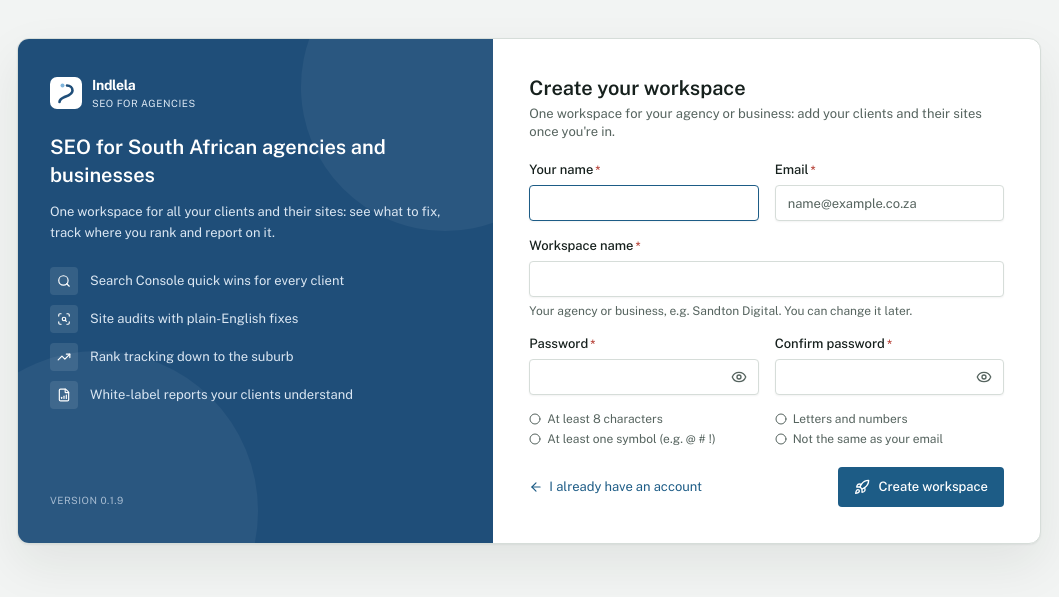
Scenario: RegisterPage (create your workspace) › checks the form before sending it
Type "Short1!" into the password field labelled "Password". click: (644, 377)
box: 529,359 -> 759,395
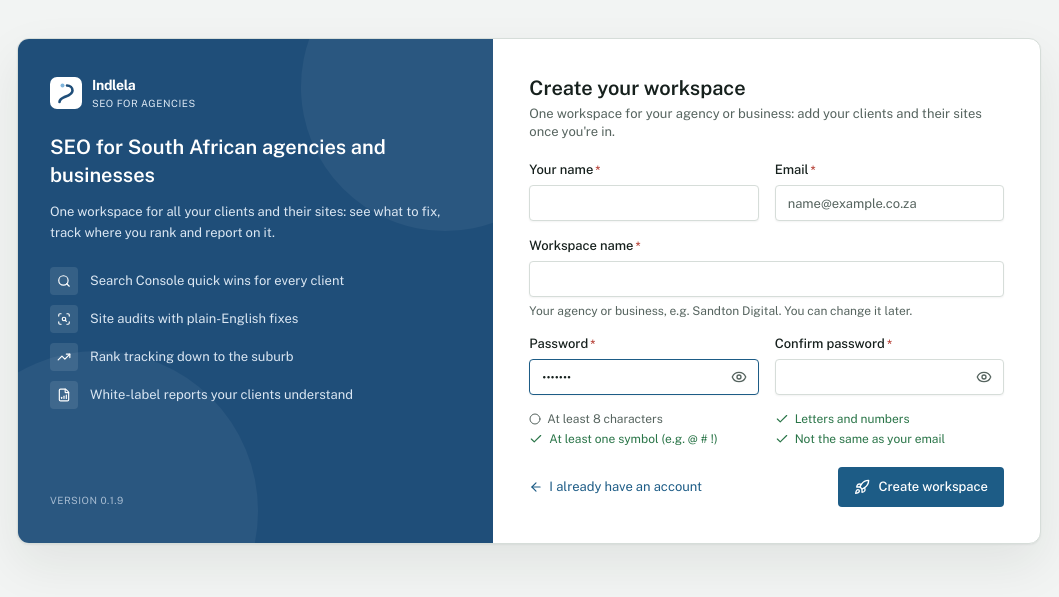
Type "Other1!" into the password field labelled "Confirm password". click: (889, 377)
box: 775,359 -> 1004,395
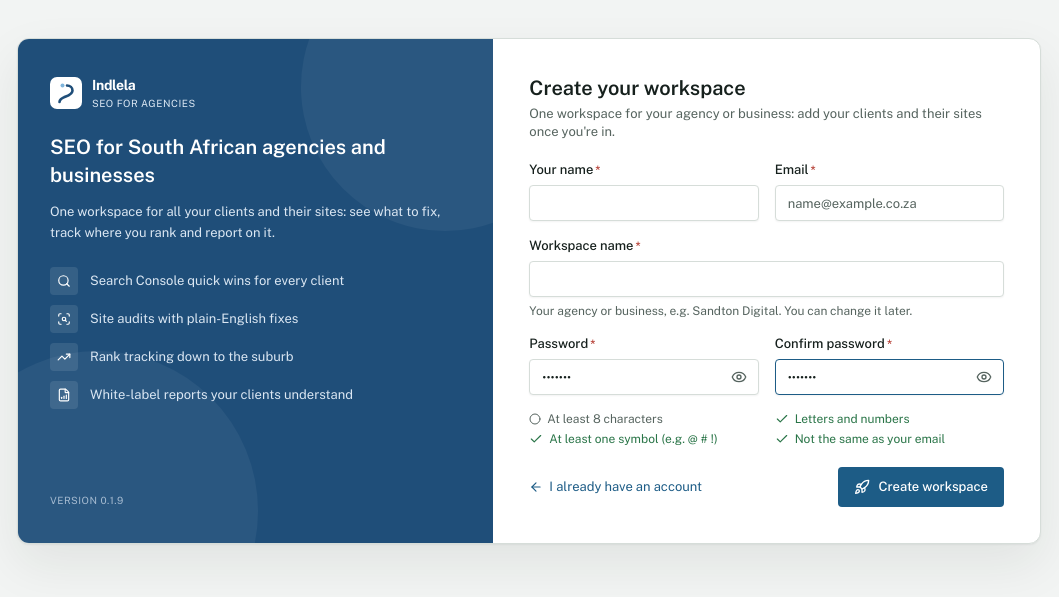
Click the button "Create workspace". click: (921, 487)
box: 838,467 -> 1004,507
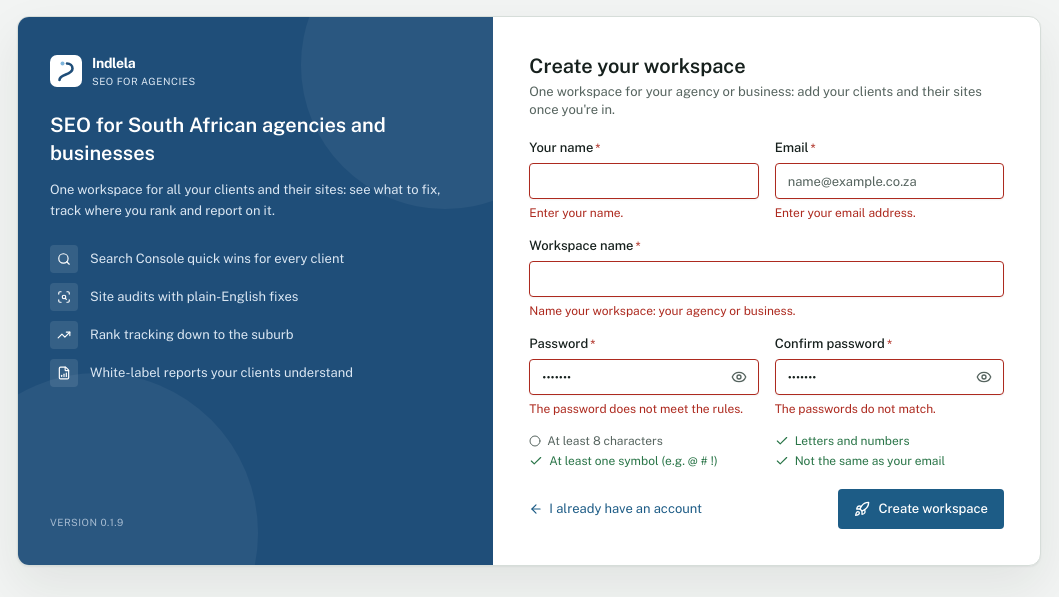
Expected: the text "Name your workspace: your agency or business." is shown, 529,304 -> 795,318
Expected: the text "Enter your name." is shown, 529,206 -> 623,220
Expected: the text "The password does not meet the rules." is shown, 529,401 -> 759,417
